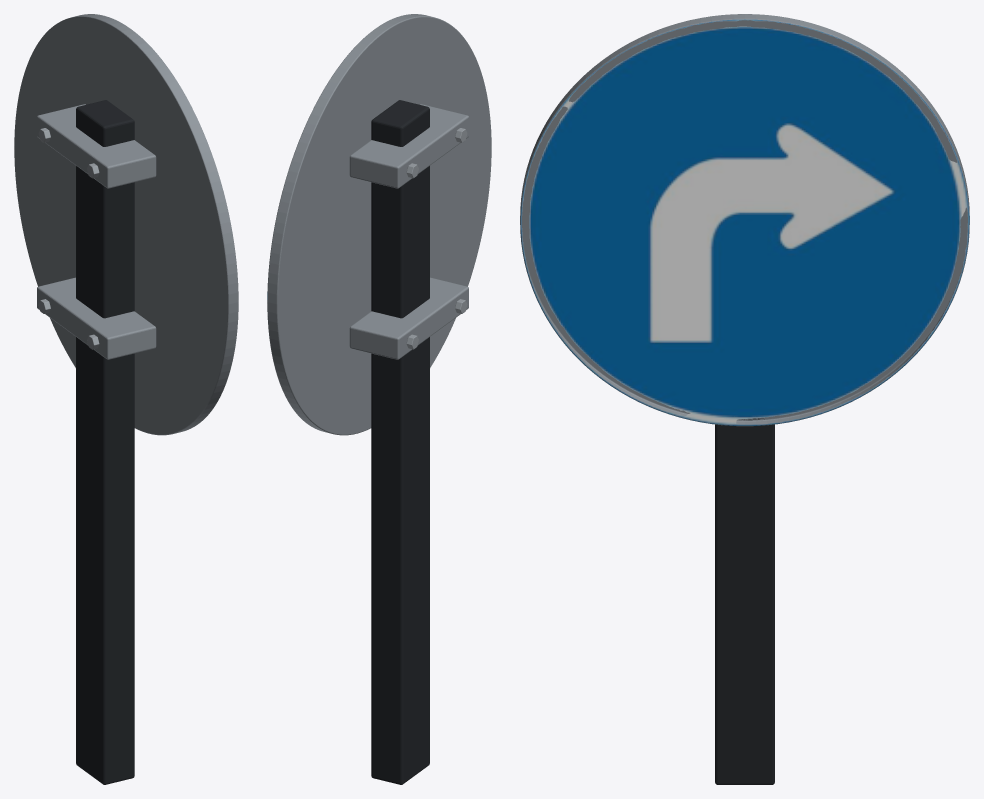
File: right_sign_visual.dae
3 views of the same model, side by side, from view 1: azimuth 30°, elevation 25°; view 2: azimuth 150°, elevation 25°; view 3: azimuth 270°, elevation 25° (orthographic). The views are drawn at different scales.
Visible parts, largest first — view 1: g1, g3, g0; view 2: g1, g3, g0; view 3: g2, g3, g1.
Part boxes in pixels (left/top/right/bottom): g1: left=14, top=14, right=238, bottom=435; g3: left=76, top=100, right=134, bottom=784; g0: left=38, top=128, right=99, bottom=349; g1: left=267, top=14, right=491, bottom=435; g3: left=371, top=100, right=429, bottom=784; g0: left=406, top=128, right=467, bottom=349; g2: left=520, top=19, right=969, bottom=425; g3: left=715, top=418, right=774, bottom=784; g1: left=520, top=14, right=969, bottom=426.
Size of the model in its own units: 0.0186 by 0.1054 by 0.1996.
4 materials, 1 textured.
